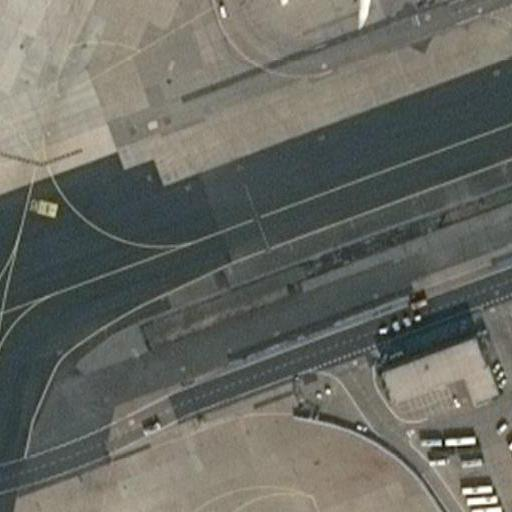Aircraft: (238, 0, 434, 22)
